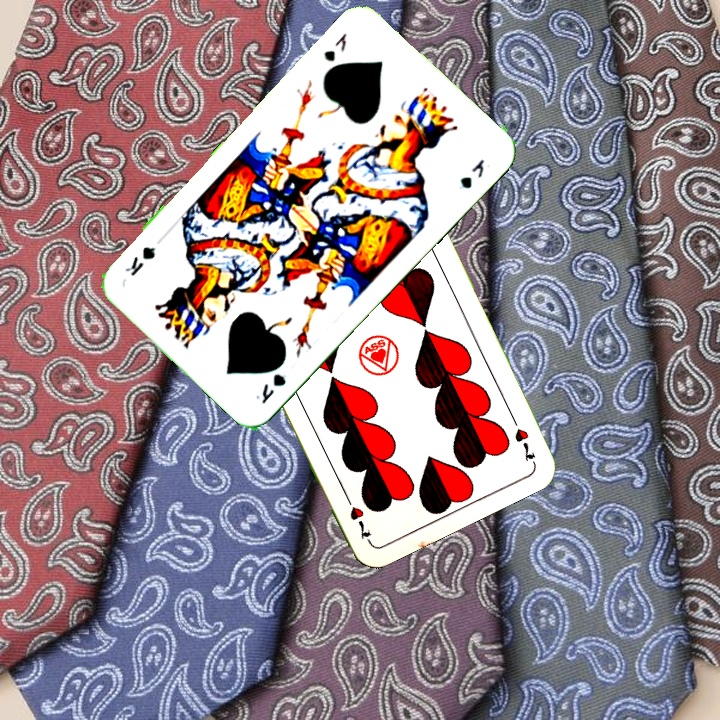GK: (251, 369, 289, 407), (320, 28, 350, 64)
H7: (505, 409, 538, 464)
